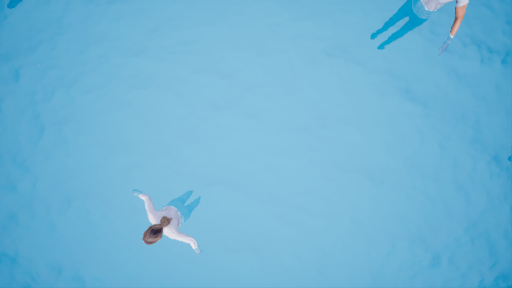person: (128, 184, 211, 251)
